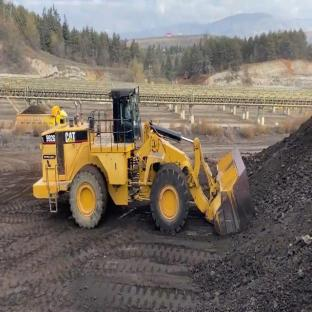ExcavationMachinery: (101, 75, 276, 262)
